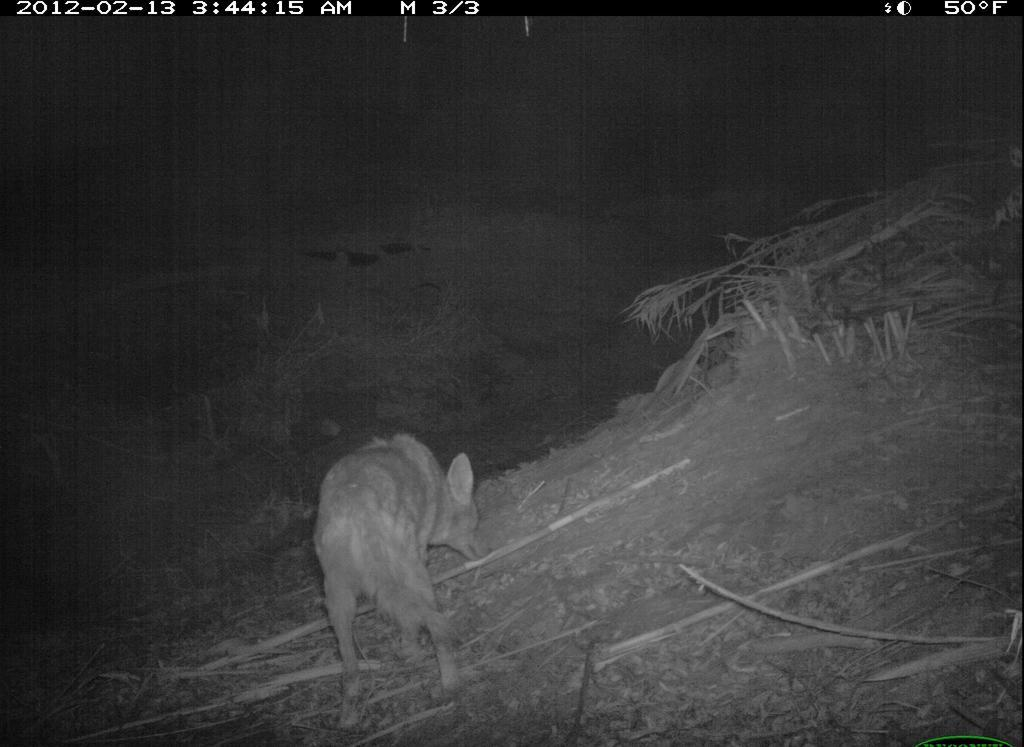coyote: (300, 432, 525, 706)
